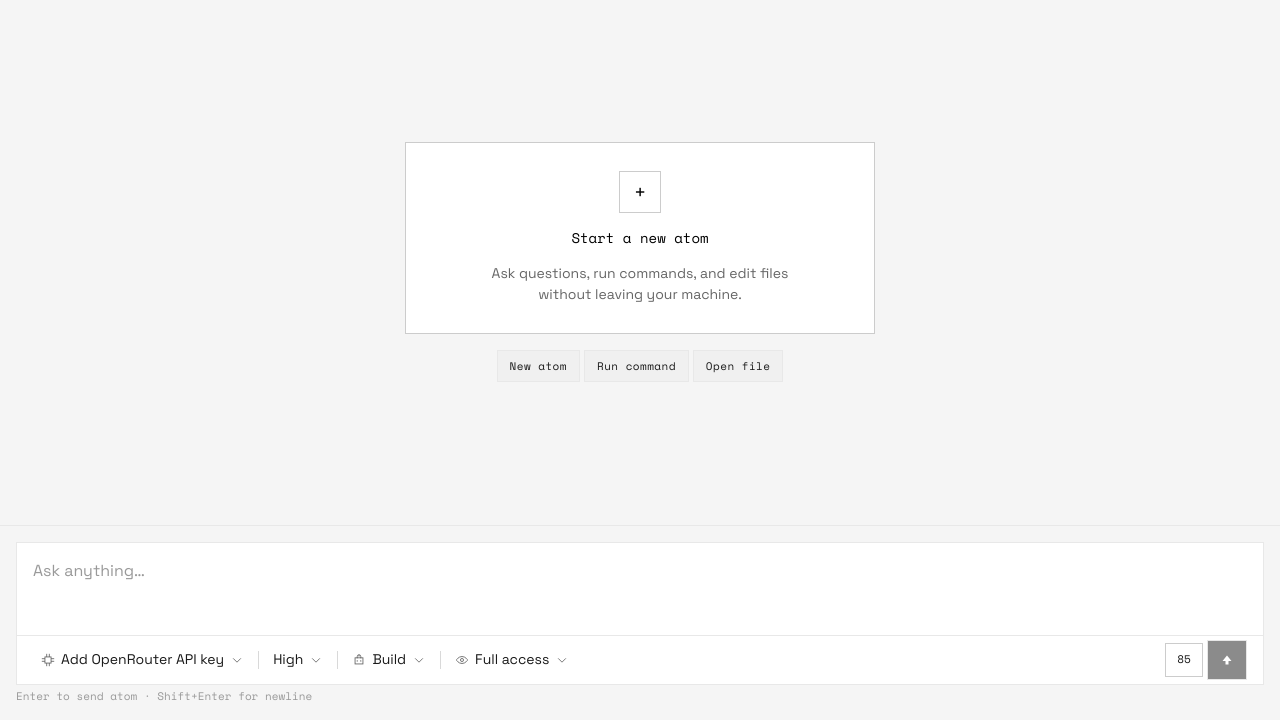
Test: MainWorkspacePanel › shows a coming soon snackbar for Open file
This screenshot has width=1280, height=720.
Click the button "Open file": (738, 366) 693,350 -> 784,382
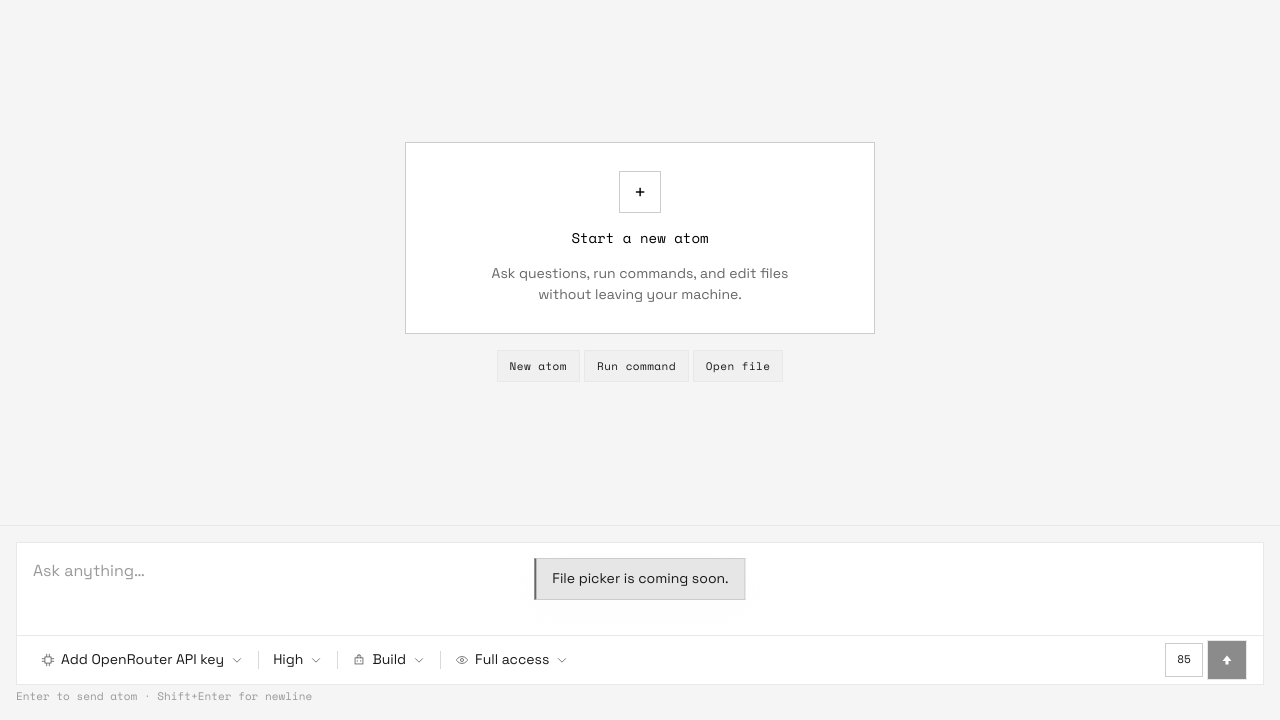
Now the text "File picker is coming soon." is shown, box 534,558 -> 746,600
